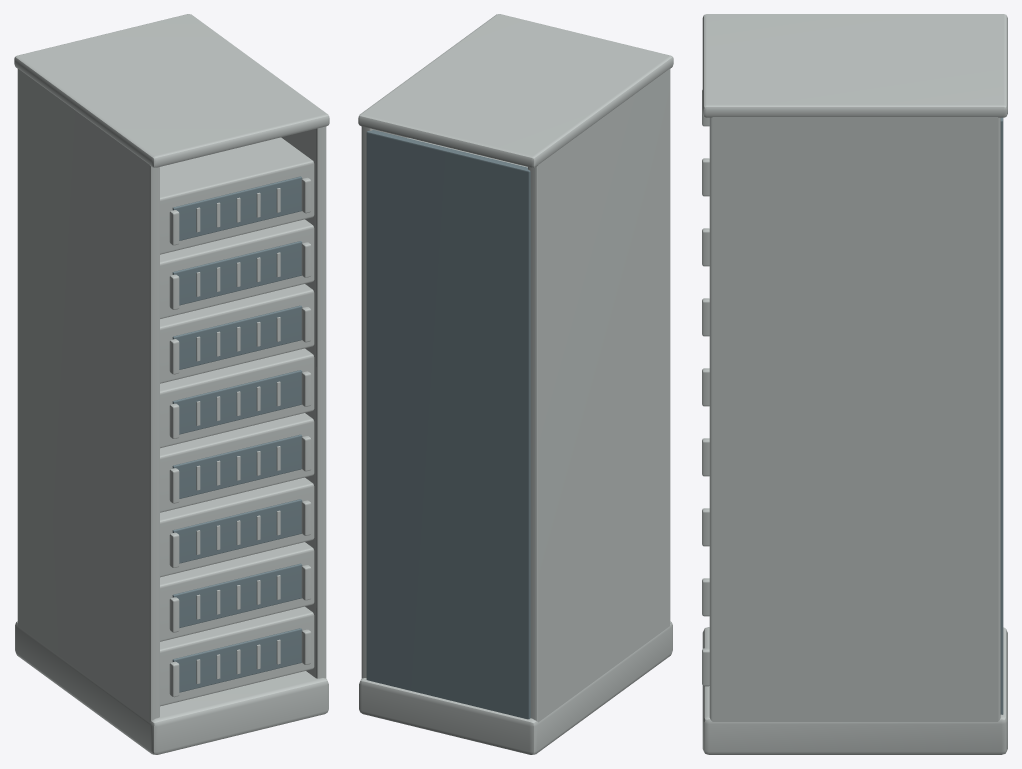
Rendered from server-rack.glb.
3 renders of one model, left to right at view 1: azimuth 30°, elevation 25°; view 2: azimuth 150°, elevation 25°; view 3: azimuth 270°, elevation 25°, orthographic. The views are drawn at different scales.
Visible parts, largest first — view 1: rack_side, rack_roof, rack_plinth, rack_server_7, rack_side.001, rack_server_4, rack_server_3, rack_server_5, rack_server_1, rack_server_2, rack_server_6, rack_server_0 (+8 smaller); view 2: rack_rear, rack_side, rack_roof, rack_plinth, rack_side.001; view 3: rack_side.001, rack_roof, rack_plinth, rack_rear.
Part boxes in pixels (left/top/right/bottom): rack_side: left=17, top=69, right=159, bottom=722; rack_roof: left=14, top=14, right=329, bottom=167; rack_plinth: left=15, top=621, right=328, bottom=754; rack_server_7: left=160, top=137, right=314, bottom=254; rack_side.001: left=281, top=126, right=326, bottom=678; rack_server_4: left=160, top=348, right=314, bottom=448; rack_server_3: left=160, top=413, right=314, bottom=512; rack_server_5: left=160, top=284, right=314, bottom=383; rack_server_1: left=160, top=542, right=314, bottom=641; rack_server_2: left=160, top=477, right=314, bottom=577; rack_server_6: left=160, top=219, right=314, bottom=318; rack_server_0: left=160, top=606, right=314, bottom=706; rack_rear: left=366, top=130, right=530, bottom=719; rack_side: left=528, top=69, right=670, bottom=722; rack_roof: left=358, top=14, right=673, bottom=167; rack_plinth: left=359, top=621, right=672, bottom=754; rack_side.001: left=361, top=126, right=406, bottom=678; rack_side.001: left=709, top=117, right=1000, bottom=721; rack_roof: left=702, top=14, right=1007, bottom=117; rack_plinth: left=702, top=627, right=1007, bottom=754; rack_rear: left=1000, top=117, right=1003, bottom=714.
Bounding box in the file's own units: 0.62 × 2 × 0.8515.
